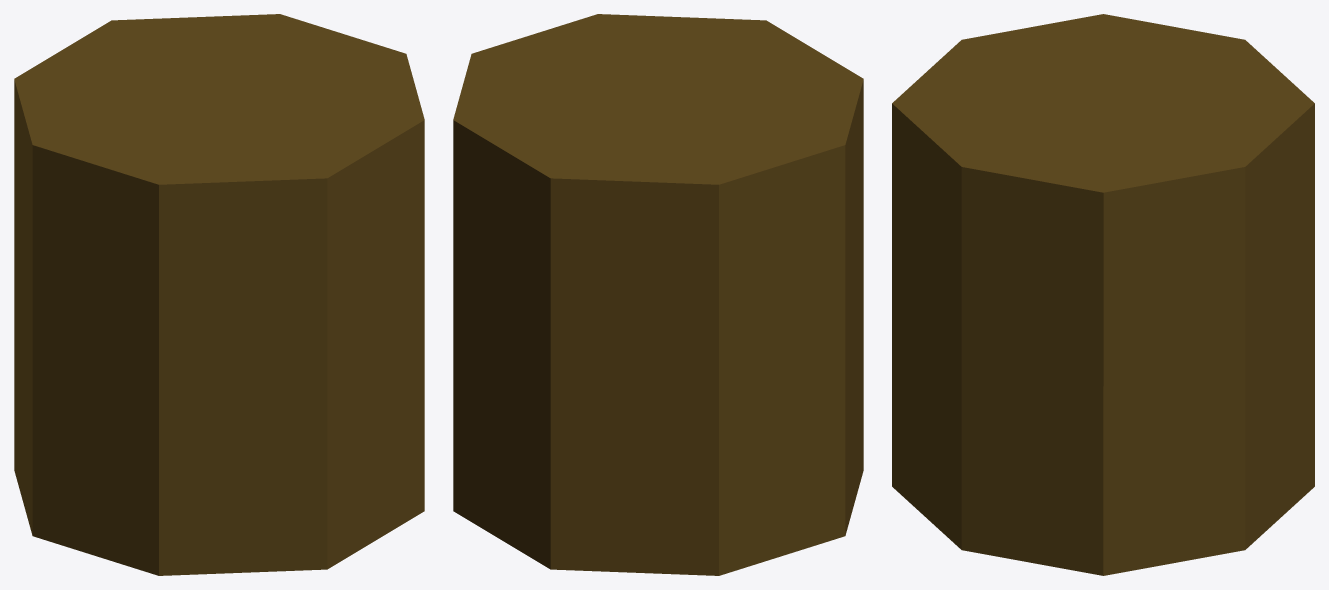
The model's file is Hexagon.fbx.
3 views of the same model, side by side, from view 1: azimuth 30°, elevation 25°; view 2: azimuth 150°, elevation 25°; view 3: azimuth 270°, elevation 25° (orthographic). The views are drawn at different scales.
Visible parts, largest first — view 1: Hexagon Shape; view 2: Hexagon Shape; view 3: Hexagon Shape.
Part boxes in pixels (box(x1,y1,x2,y2)): Hexagon Shape: box(14, 14, 424, 575); Hexagon Shape: box(453, 14, 863, 575); Hexagon Shape: box(892, 14, 1314, 575).
Bounding box in the file's own units: 200 × 200 × 200.
